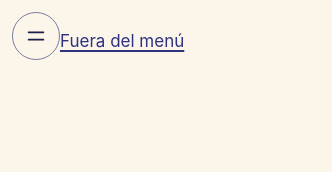
Test: NavDisclosure › si el foco sale hacia el resto de la página, se cierra
Click the button named "Menú". click: point(36, 36)
box: x1=12 y1=12 x2=60 y2=60
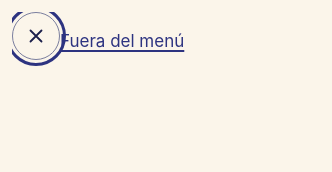
Press Tab
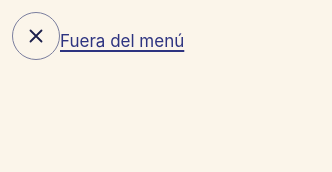
Now the button named "Menú" is expanded, box x1=12 y1=12 x2=60 y2=60
Press Tab
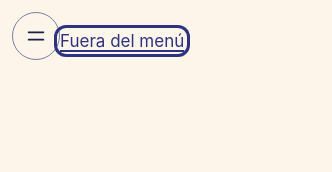
Now the button named "Menú" is collapsed, box x1=12 y1=12 x2=60 y2=60
